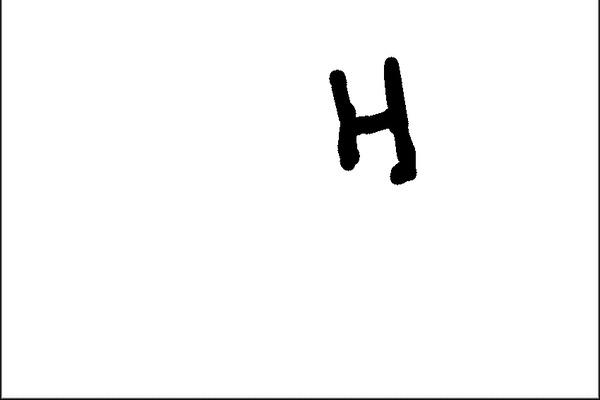H: (323, 52, 424, 189)
